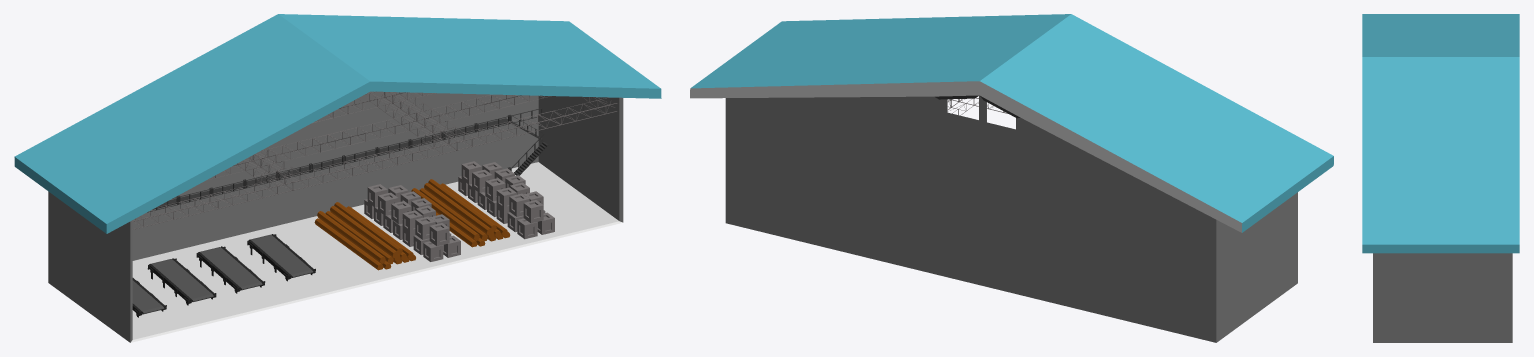
Rendered from 1-5.6haikei.fbx.
3 renders of one model, left to right at view 1: azimuth 30°, elevation 25°; view 2: azimuth 150°, elevation 25°; view 3: azimuth 270°, elevation 25°, orthographic. The views are drawn at different scales.
Parts seen in each view (by area): view 1: Plane, Plane.001, pCube40.000, pCube40.001, stiege-b Ebene, 17370_Power_belt_conveyor.003, 17370_Power_belt_conveyor.002, 17370_Power_belt_conveyor.000, 17370_Power_belt_conveyor.001, Cube.007_Cube.001, Cube.004_Cube.001, Cube.005_Cube.002 (+3 smaller); view 2: Plane, Plane.001; view 3: Plane.001, Plane.
Part boxes in pixels (bbox=[...]): Plane: bbox=[48, 91, 623, 342]; Plane.001: bbox=[14, 14, 661, 233]; pCube40.000: bbox=[314, 184, 460, 270]; pCube40.001: bbox=[411, 161, 554, 247]; stiege-b Ebene: bbox=[152, 118, 542, 209]; 17370_Power_belt_conveyor.003: bbox=[247, 234, 315, 281]; 17370_Power_belt_conveyor.002: bbox=[196, 246, 265, 293]; 17370_Power_belt_conveyor.000: bbox=[147, 258, 216, 305]; 17370_Power_belt_conveyor.001: bbox=[132, 278, 166, 317]; Cube.007_Cube.001: bbox=[297, 113, 423, 155]; Cube.004_Cube.001: bbox=[369, 93, 448, 147]; Cube.005_Cube.002: bbox=[385, 92, 464, 143]; Plane: bbox=[725, 95, 1297, 342]; Plane.001: bbox=[690, 14, 1333, 232]; Plane.001: bbox=[1362, 14, 1519, 253]; Plane: bbox=[1373, 253, 1512, 342].
Bounding box in the file's own units: 6107 × 2203 × 1758.
